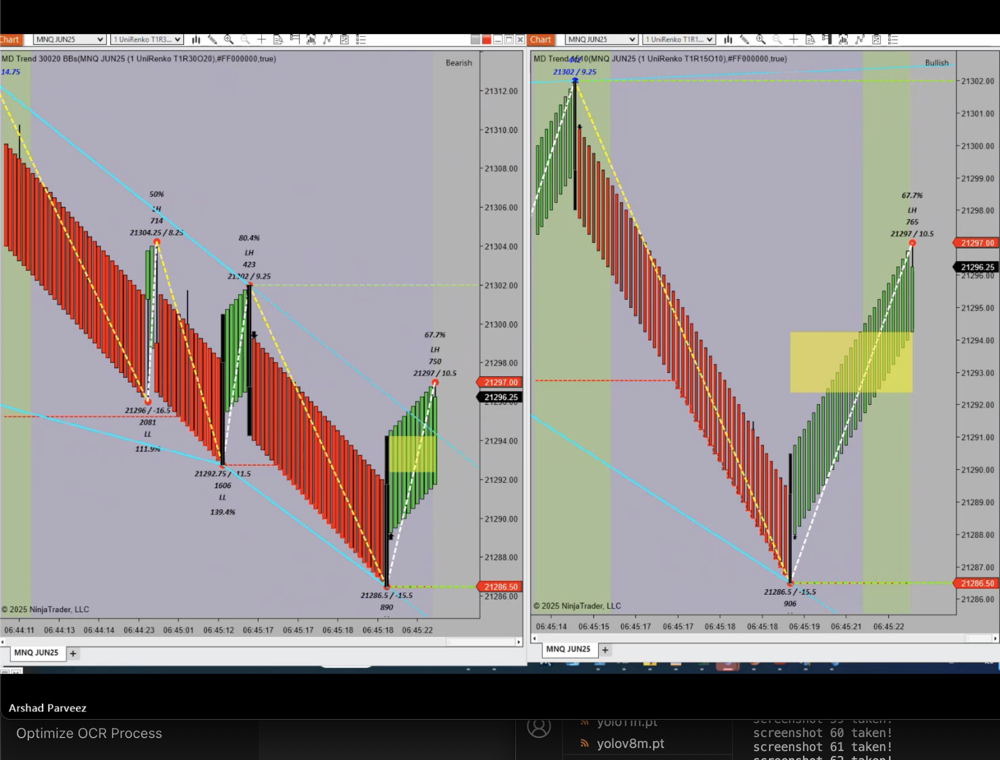LH: (423, 342, 448, 358), (148, 200, 170, 218), (904, 200, 923, 217), (241, 247, 259, 260)
LL: (136, 426, 156, 442), (211, 491, 233, 505)
